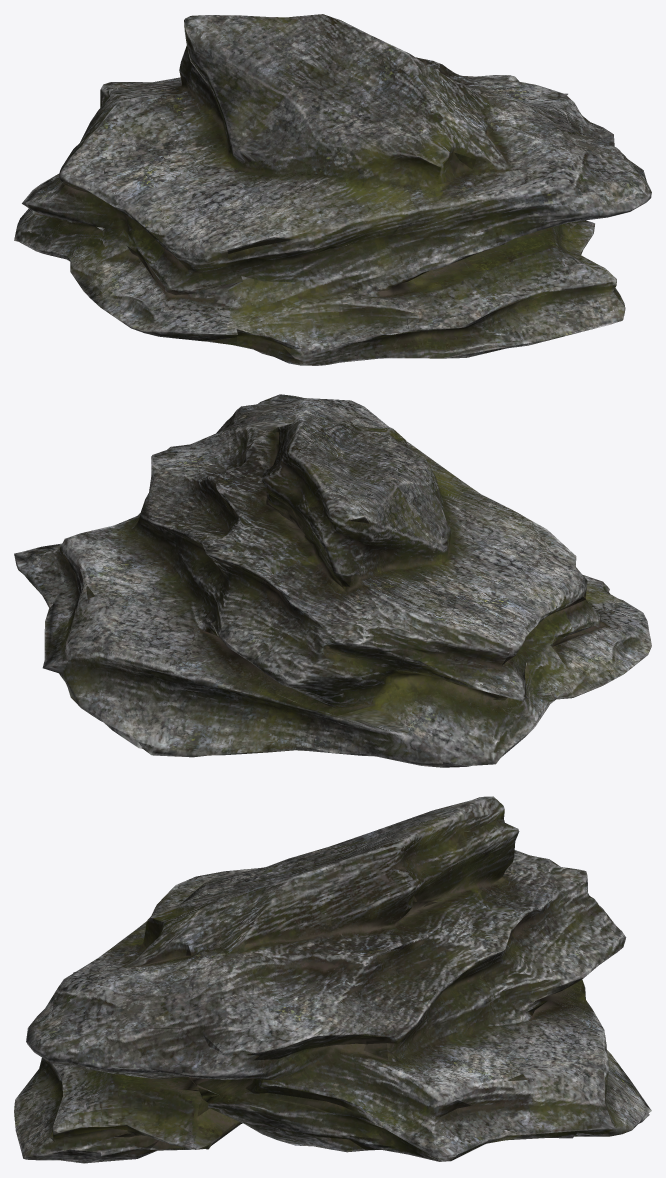
Rendered from SM_rock_03.fbx.
3 renders of one model, top to bottom at view 1: azimuth 30°, elevation 25°; view 2: azimuth 150°, elevation 25°; view 3: azimuth 270°, elevation 25°, orthographic. The views are drawn at different scales.
Visible parts, largest first — view 1: SM_rock_03; view 2: SM_rock_03; view 3: SM_rock_03.
Boxes of the visible parts, x1,y1,x2,y2 form: SM_rock_03: [14, 14, 651, 365]; SM_rock_03: [14, 394, 651, 767]; SM_rock_03: [14, 796, 651, 1163].
Size of the model in its own units: 458 by 189 by 417.
